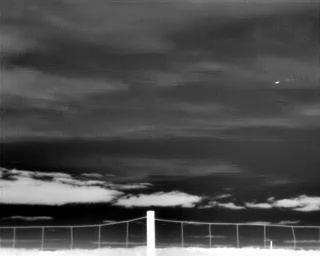AIRPLANE: (273, 78, 281, 86)
